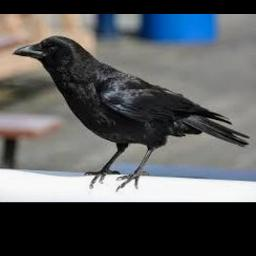Crow: (12, 35, 249, 188)
